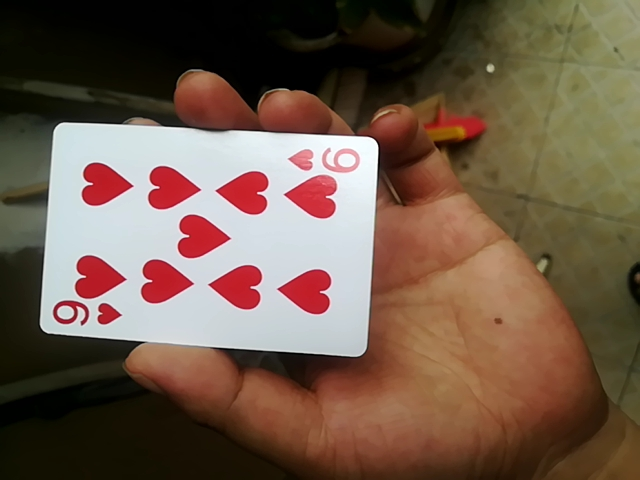hx 9: (34, 121, 380, 361)
